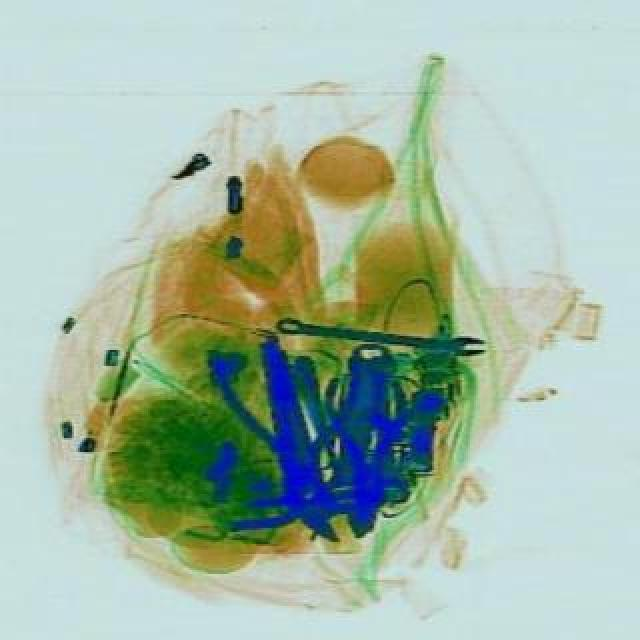scissors: (296, 336, 416, 548), (282, 312, 490, 356)
wrench: (220, 338, 388, 496)
